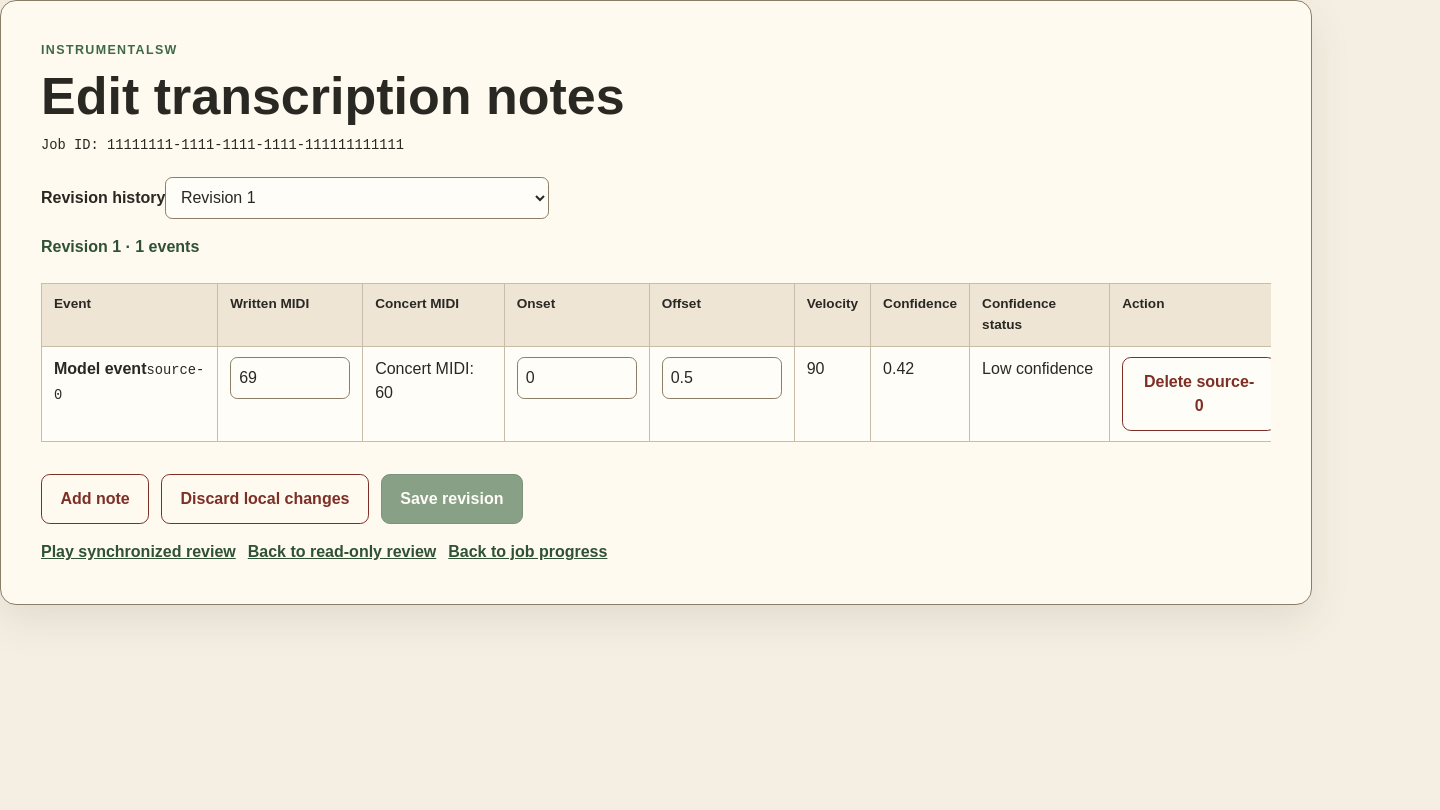
Test: TranscriptionRevisionEditor failure states › reports a historical revision load error
Select "Revision 0 — original" in the dropdown labelled "Revision history" at (358, 198), box [166,177,550,219]
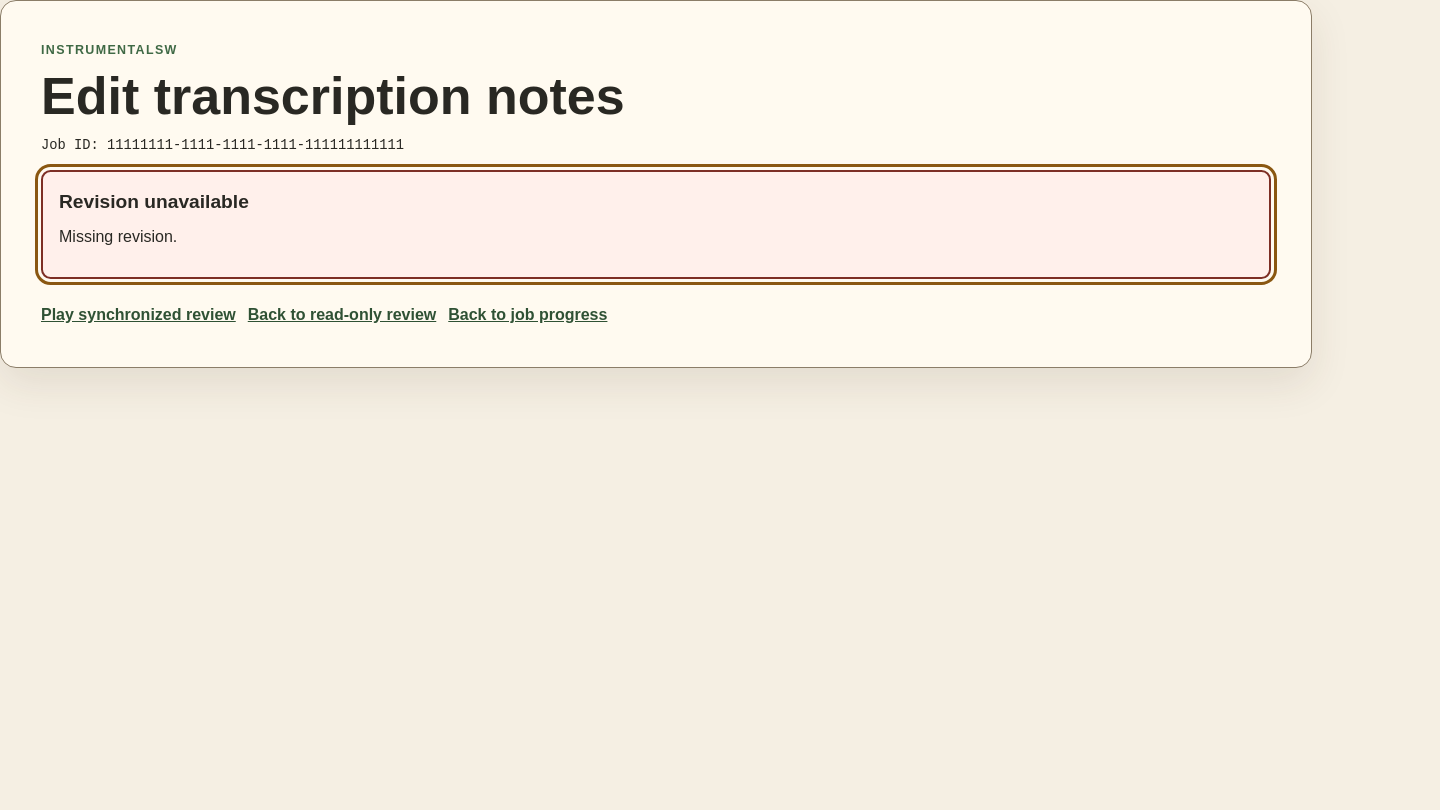
Expected: the message shows "Missing revision.", [59,228,177,245]
